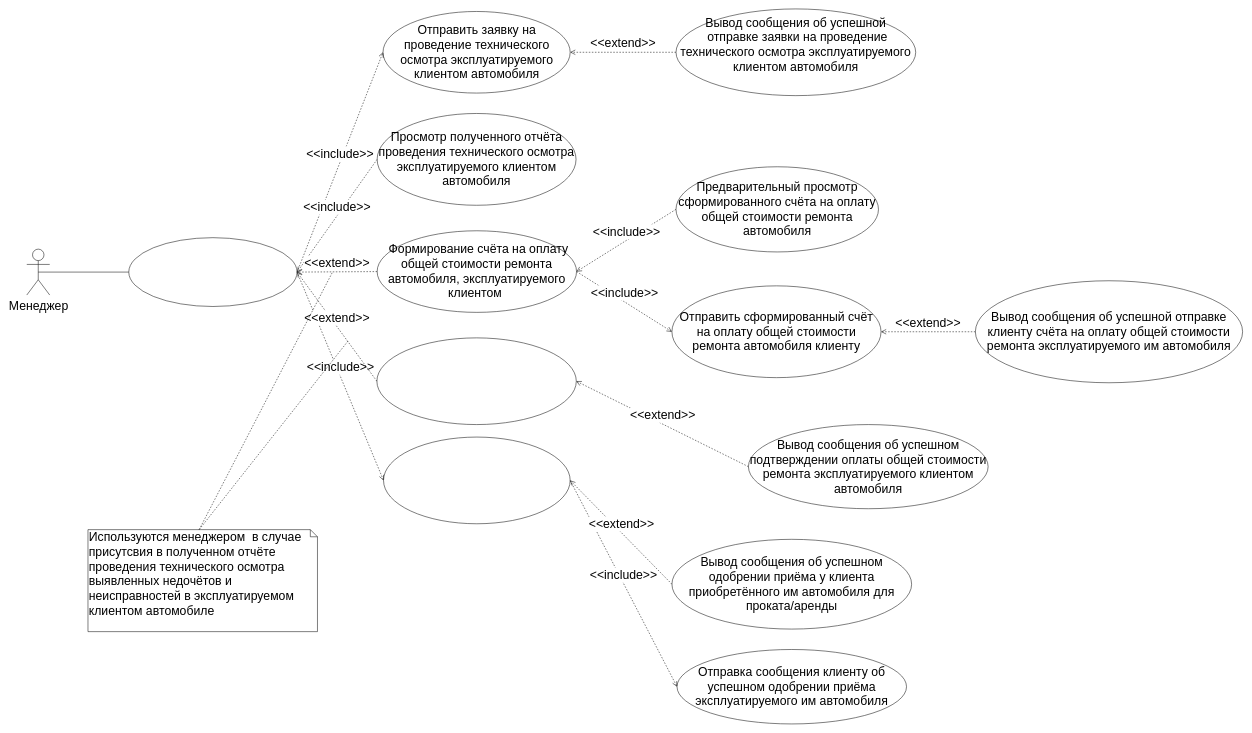
Some shapes in this 1252 by 733 pixel diagram are drawn without their labels. The shapes that lost their labels are listed below. From the top down, each one's centre as x and y in pixels, then its label:
At point (212, 272): "Приём автомобиля у клиента после истечения периода проката/аренды".
At point (476, 381): "Подтвердить оплату общей стоимости ремонта эксплуатируемого клиентом автомобиля".
At point (476, 480): "Одобрить приём у клиента приобретённого им автомобиля для проката/аренды".
